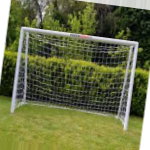goals: (9, 24, 140, 131)
